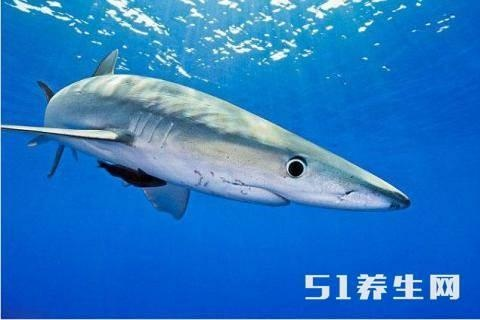fish: (1, 47, 412, 221)
